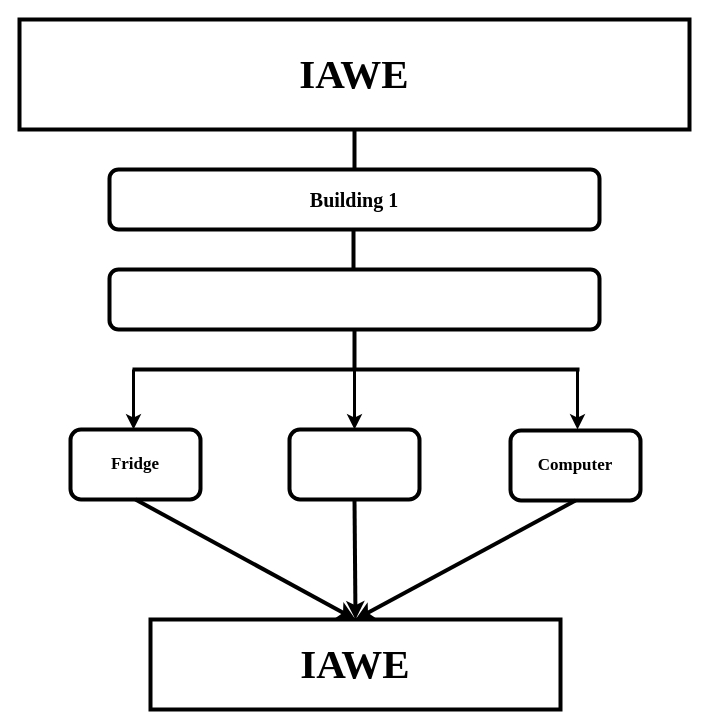
This 708x728 diagram has some shape labels left out. The centre of each missing label's shape, as x and y in pixels:
"12 Appliances" goes at point (354, 299).
"Unknown Appliance 1" goes at point (354, 464).
